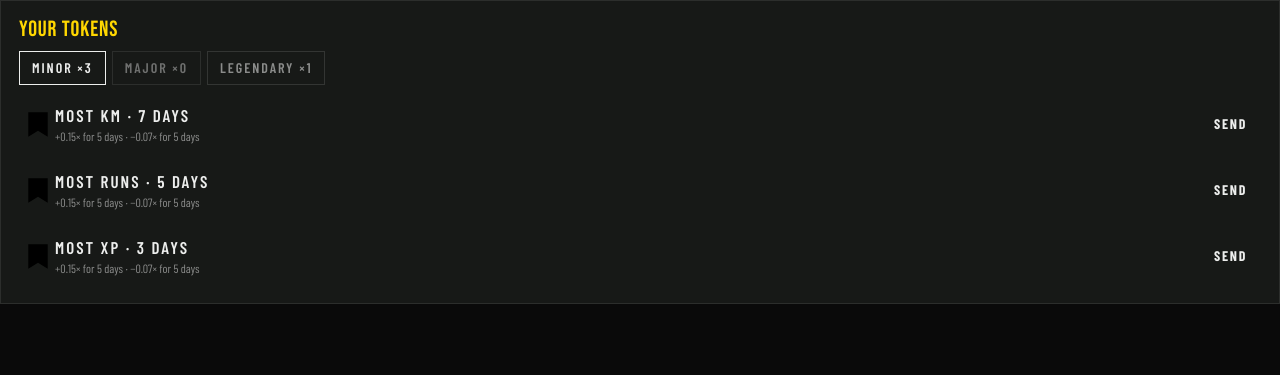
Test: Your tokens › an empty tier chip is aria-disabled, shows ×0 and explains itself
Click the button "Major ×0" at (156, 68), box [112, 51, 201, 85]
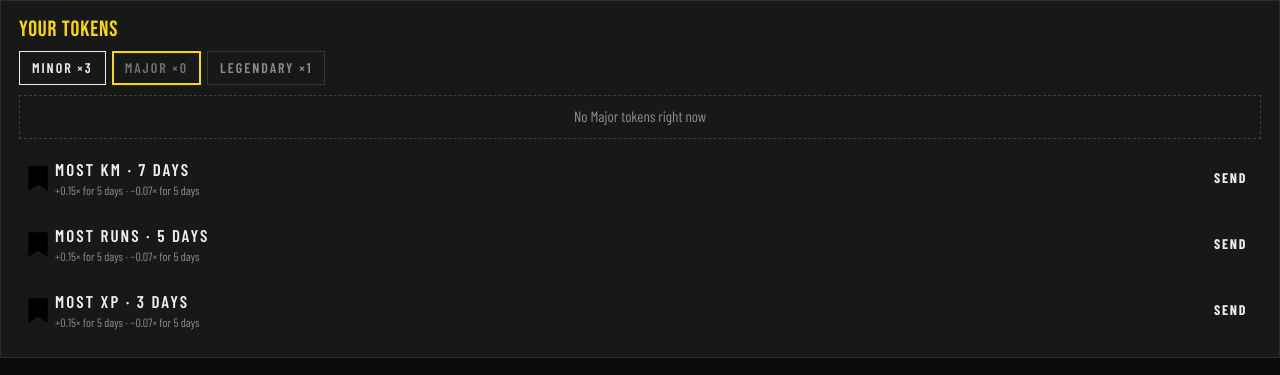
Expected: the message reads "No Major tokens right now", [19, 95, 1261, 139]
Förklaringen försvinner när en nivå med tokens väljs, och nås även med tangentbordet.
Click the button "Legendary ×1" at (266, 68), box [207, 51, 325, 85]
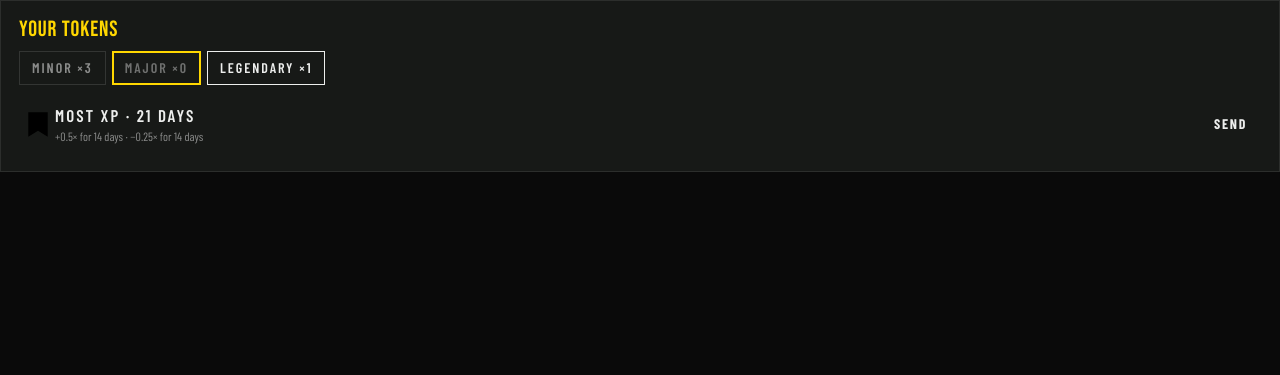
Press Enter
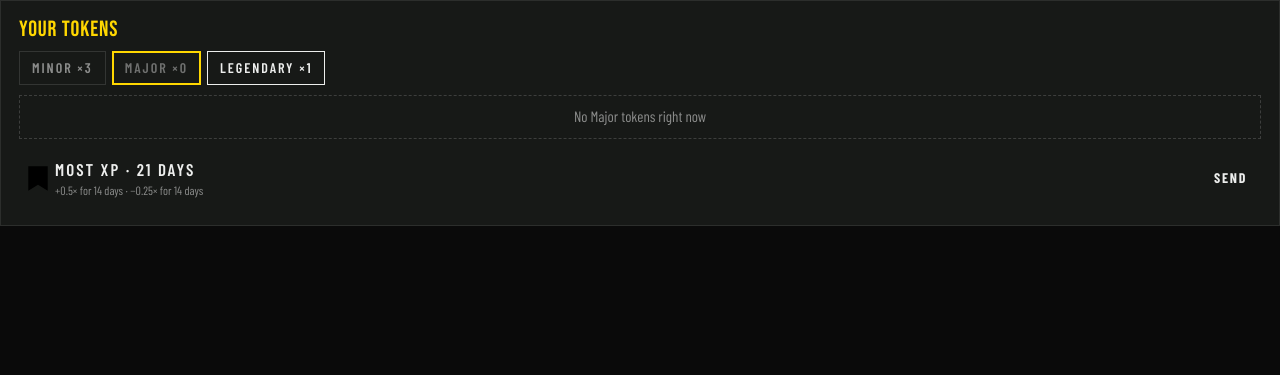
Expected: the message reads "No Major tokens right now", [19, 95, 1261, 139]
